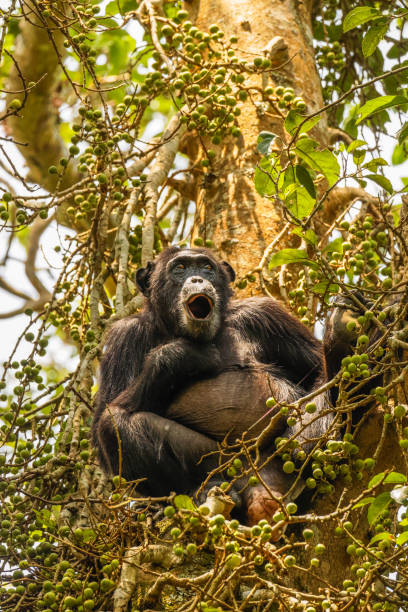chimpanzee: (116, 229, 271, 369)
